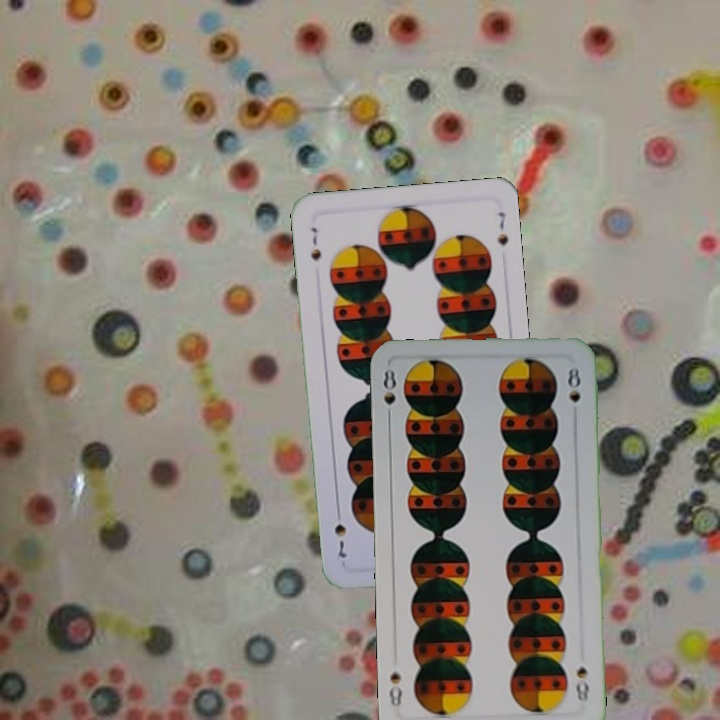S7: (306, 223, 324, 264)
S8: (379, 365, 399, 424), (571, 662, 591, 704)
